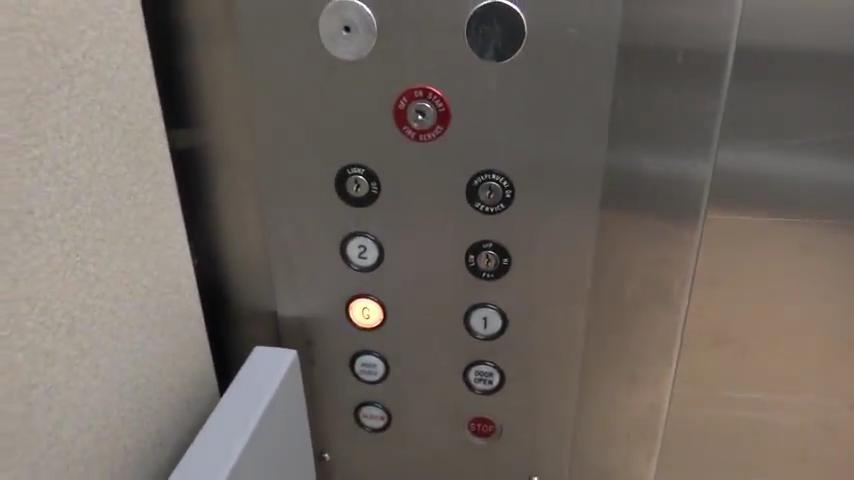1: (463, 301, 508, 342)
2: (339, 230, 385, 273)
G: (344, 293, 387, 331)
blur: (463, 359, 505, 396)
empty: (463, 1, 527, 64), (318, 1, 378, 63)
keyhole: (391, 84, 451, 142), (465, 168, 516, 214), (334, 163, 381, 208), (464, 238, 512, 281)
text_blur: (349, 350, 391, 385), (354, 402, 392, 434)
text_stop: (466, 413, 502, 446)
